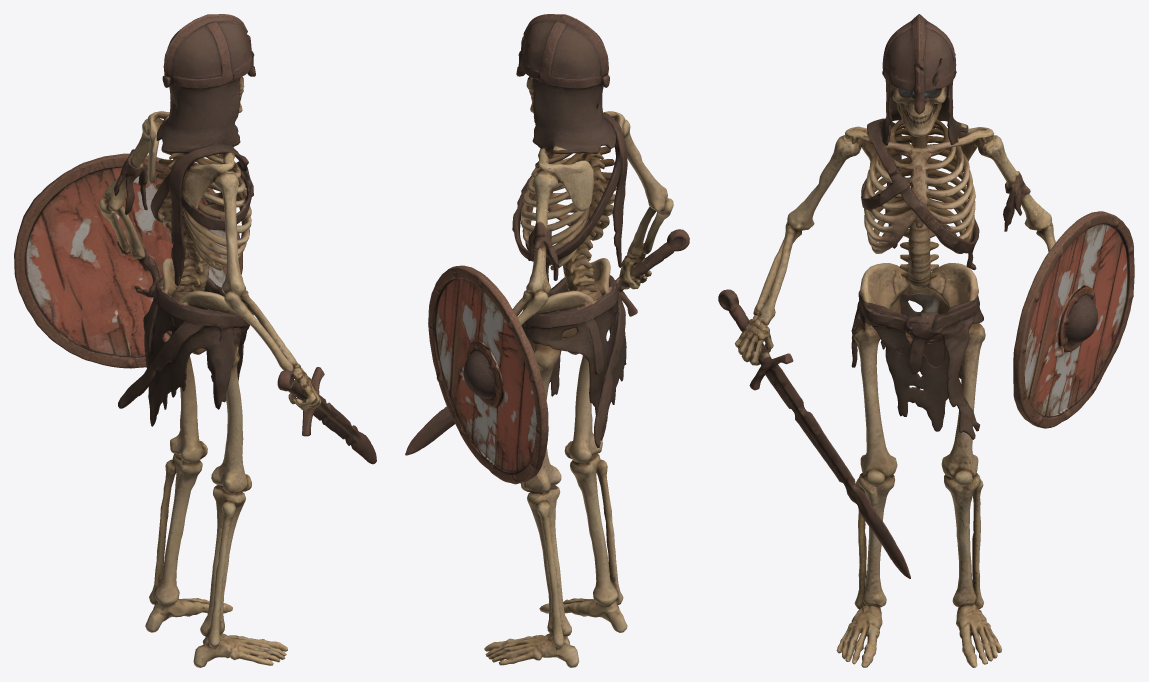
File: skeleton-warrior-original.glb
3 views of the same model, side by side, from view 1: azimuth 30°, elevation 25°; view 2: azimuth 150°, elevation 25°; view 3: azimuth 270°, elevation 25° (orthographic).
Parts seen in each view (by area): view 1: tripo_node_2010be74-b5bf-40e5-8c71-23f91c3ecf07; view 2: tripo_node_2010be74-b5bf-40e5-8c71-23f91c3ecf07; view 3: tripo_node_2010be74-b5bf-40e5-8c71-23f91c3ecf07.
Part boxes in pixels (x1,y1,x2,y2): tripo_node_2010be74-b5bf-40e5-8c71-23f91c3ecf07: [14, 14, 376, 667]; tripo_node_2010be74-b5bf-40e5-8c71-23f91c3ecf07: [405, 14, 689, 667]; tripo_node_2010be74-b5bf-40e5-8c71-23f91c3ecf07: [718, 14, 1134, 667].
Size of the model in its own units: 0.4201 by 1 by 0.6046.
1 material, 1 textured.
